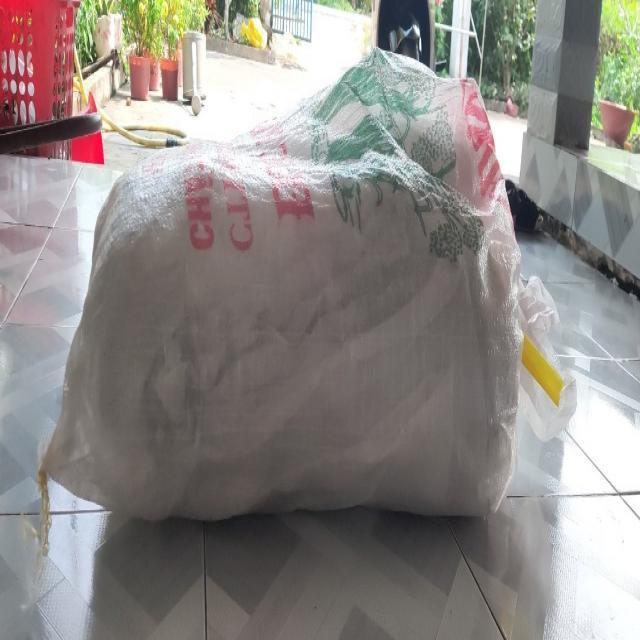gunny_bag: (42, 45, 522, 519)
